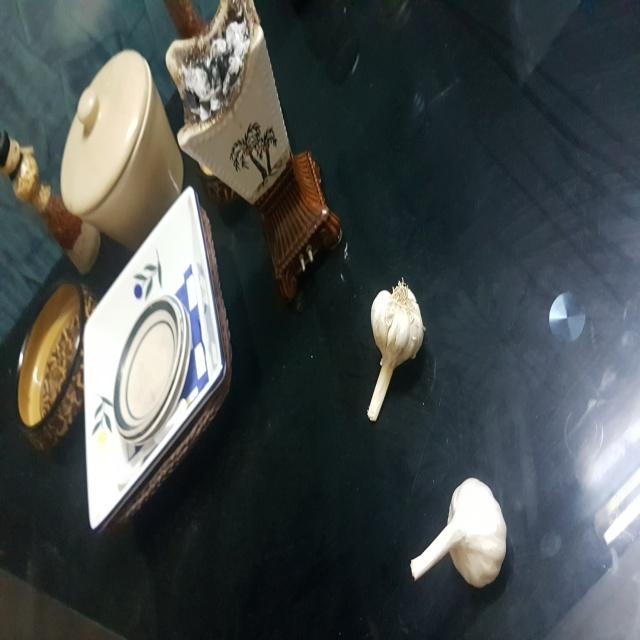garlic: (399, 470, 508, 587), (354, 274, 428, 430)
